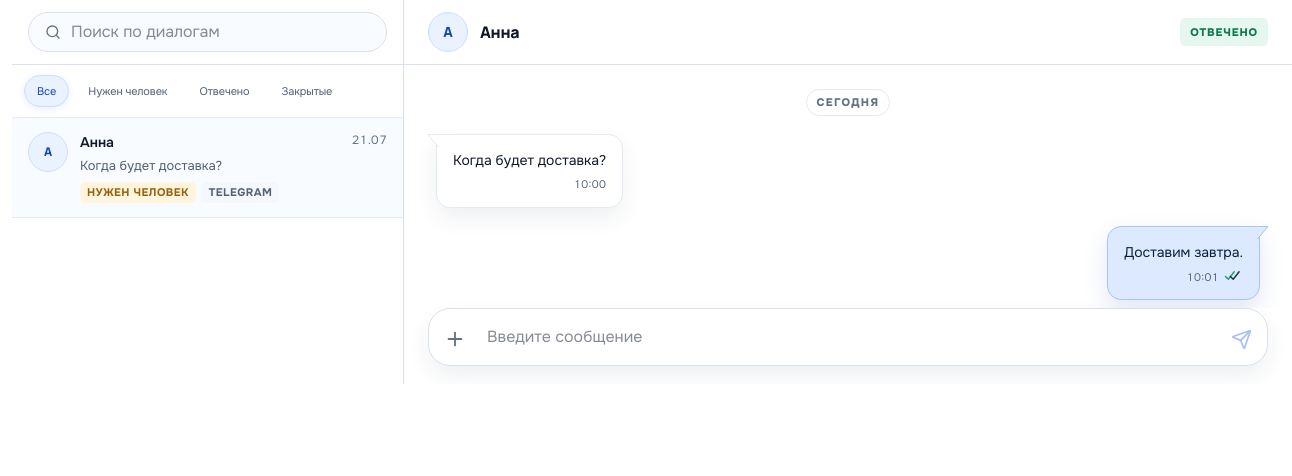
Test case: InboxPage live actions › renders optimistic time and pending checks before the reply request finishes
Expected: the heading "Анна" is shown, [480, 20, 519, 44]
In the text box named "Ответ клиенту": (848, 337) [481, 315, 1215, 359], type "Optimistic pending reply"
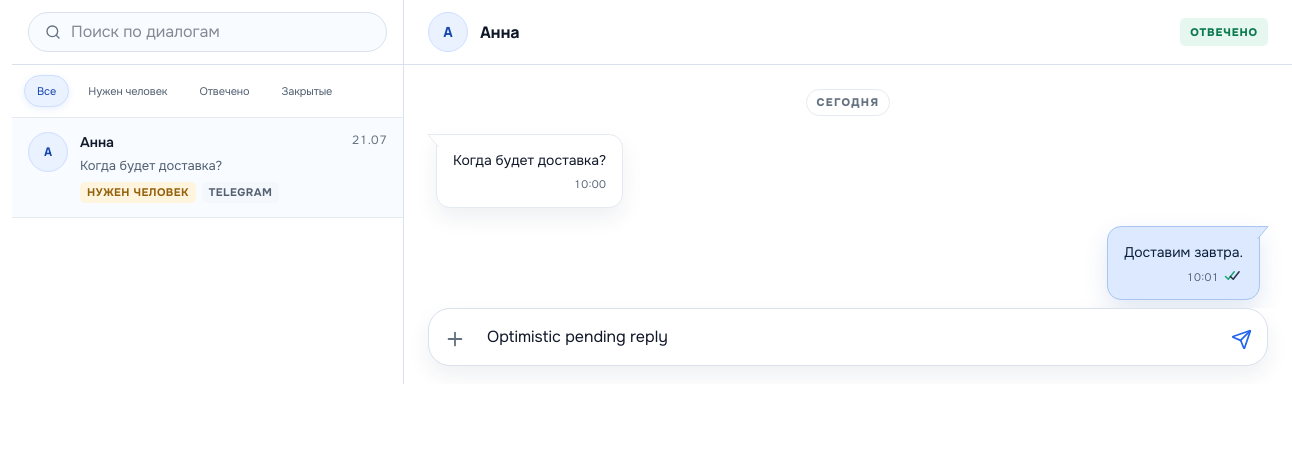
Click the button named "Отправить ответ": click(1241, 339) [1221, 319, 1261, 359]
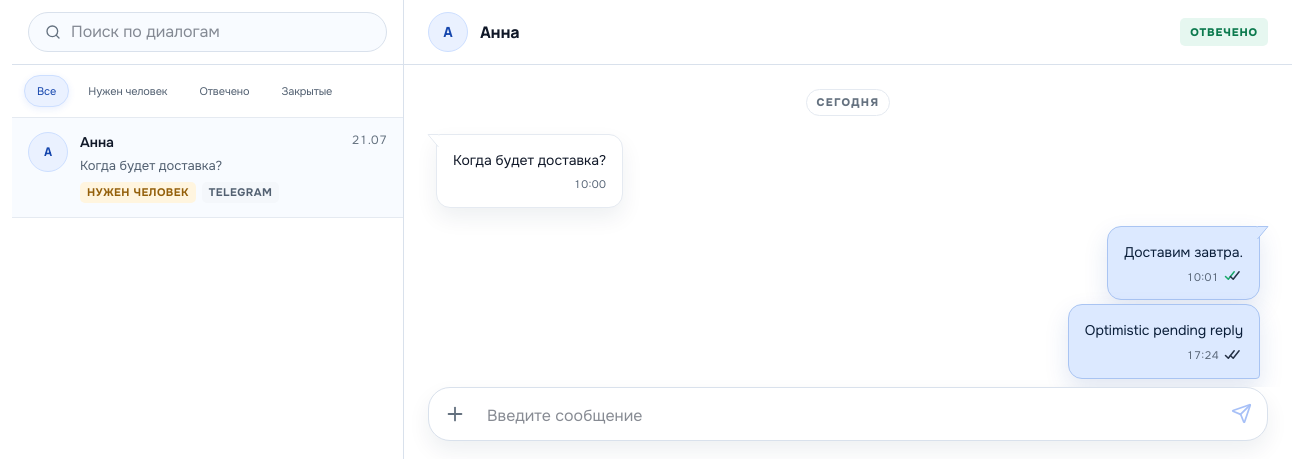
Expected: the text "17:24" is shown, [1186, 350, 1219, 361]
